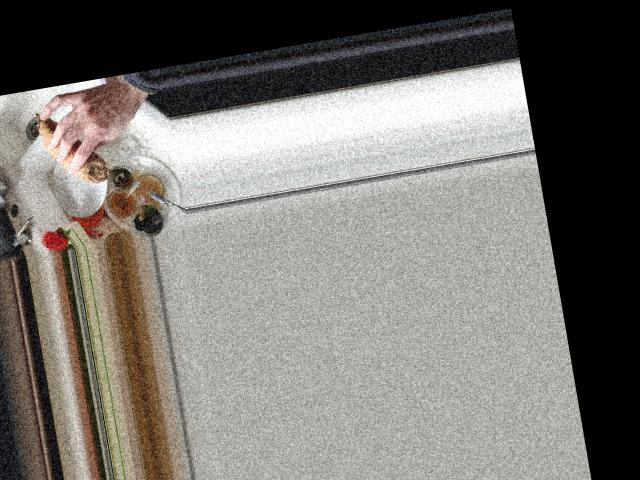sweet_potato: (35, 101, 109, 188)
